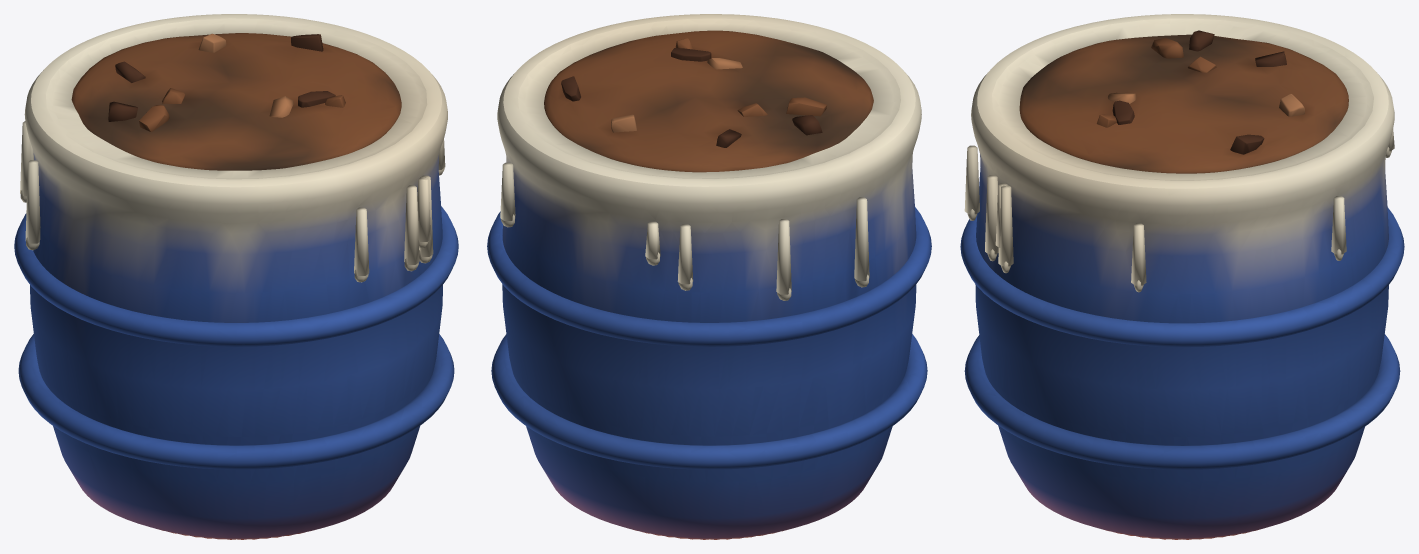
File: canopy_pot_glazed_b.glb
The picture shows the model from 3 angles, left to right: view 1: azimuth 30°, elevation 25°; view 2: azimuth 150°, elevation 25°; view 3: azimuth 270°, elevation 25°; orthographic projection.
Visible parts, largest first — view 1: canopy_pot_glazed_b; view 2: canopy_pot_glazed_b; view 3: canopy_pot_glazed_b.
Boxes of the visible parts, left/top/right/bottom form: canopy_pot_glazed_b: left=14, top=14, right=458, bottom=539; canopy_pot_glazed_b: left=487, top=14, right=931, bottom=539; canopy_pot_glazed_b: left=960, top=14, right=1404, bottom=539.
Bounding box in the file's own units: 10.35 × 10.41 × 10.35.
